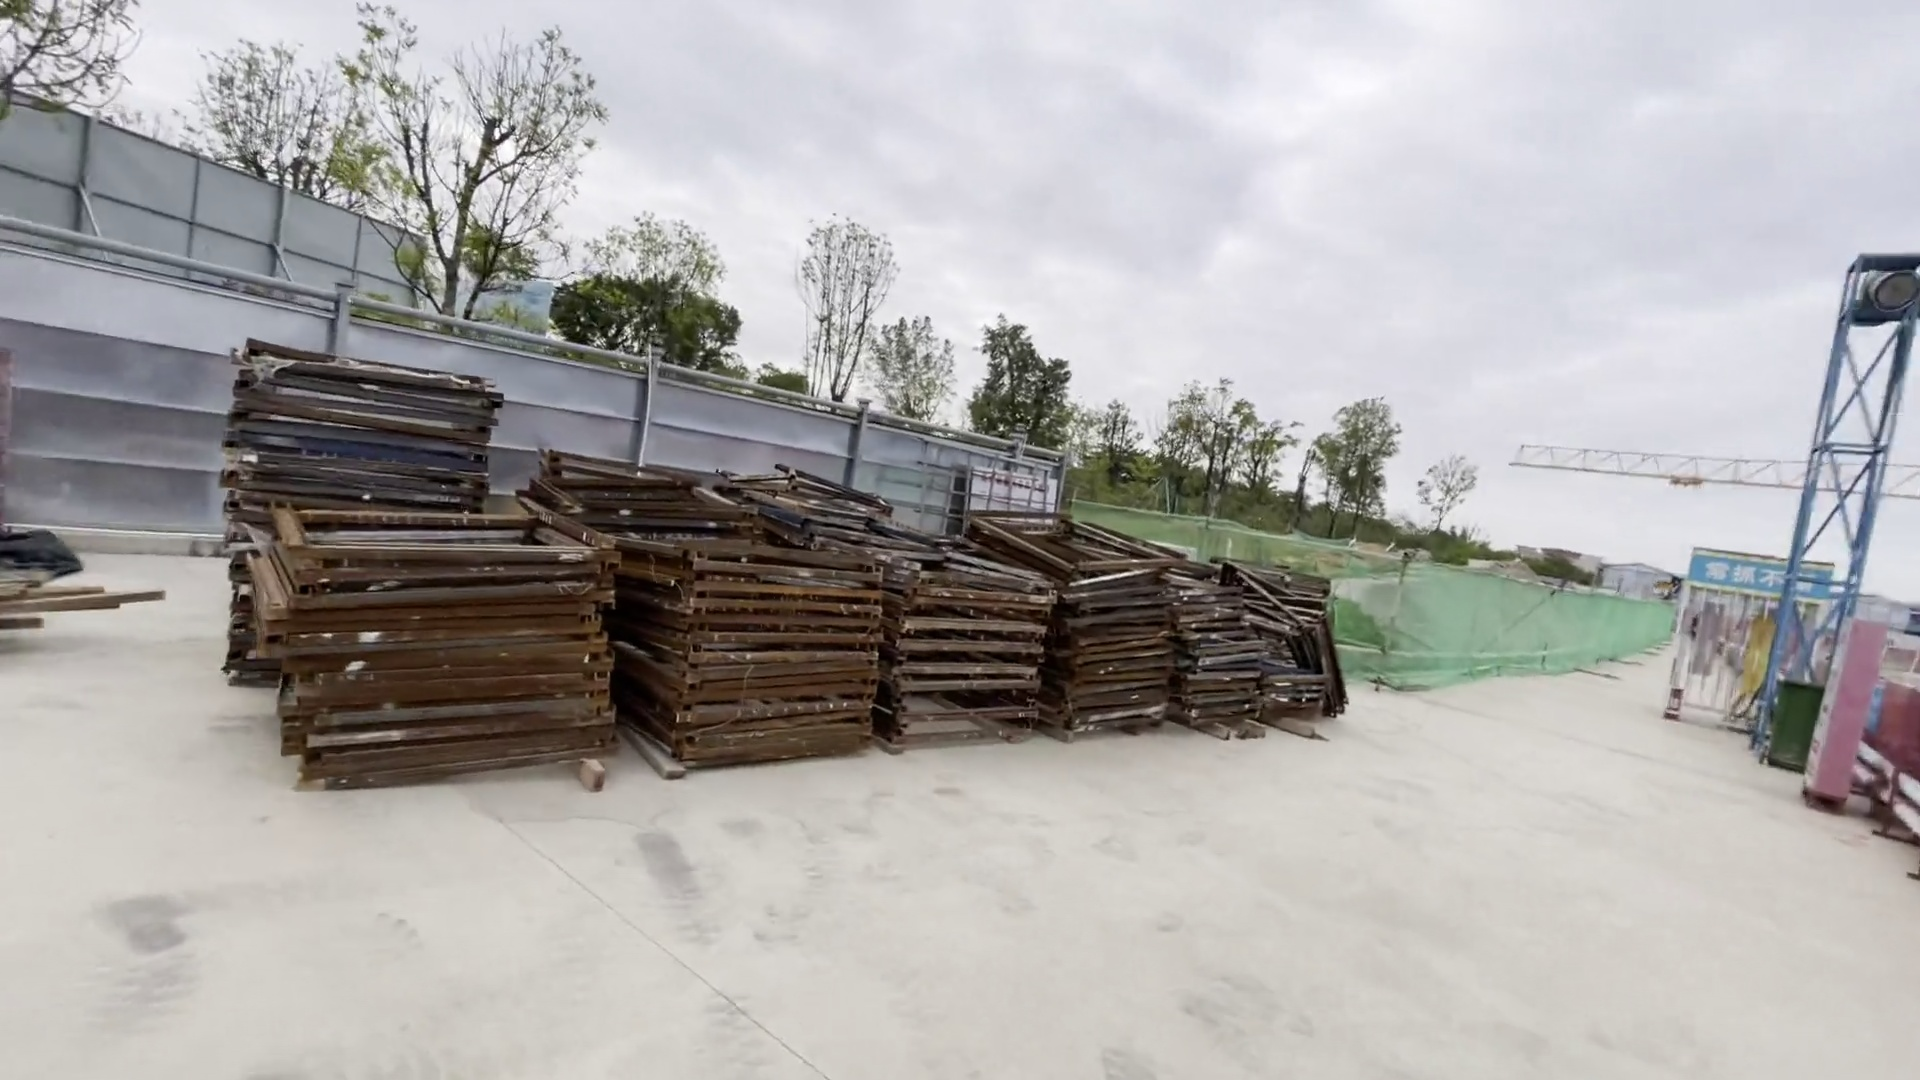ebox: (1734, 615, 1788, 716)
slogan: (1698, 553, 1838, 611)
